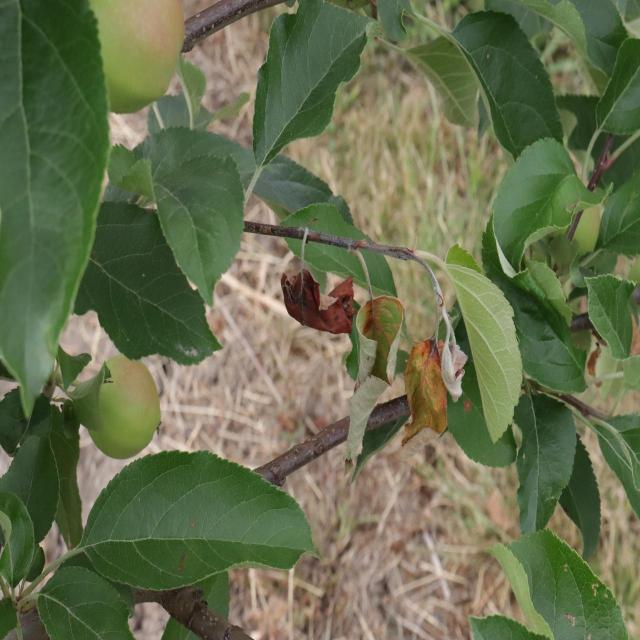-FireBlight-: (282, 226, 470, 446)
